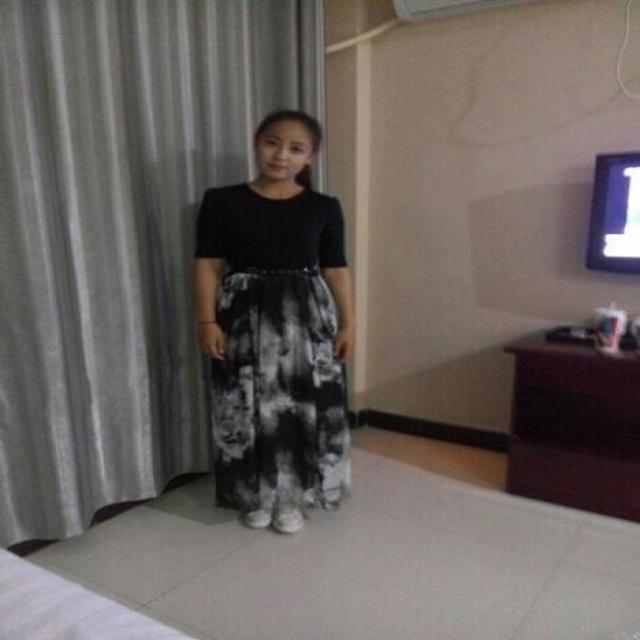short sleeve dress: (194, 183, 350, 510)
